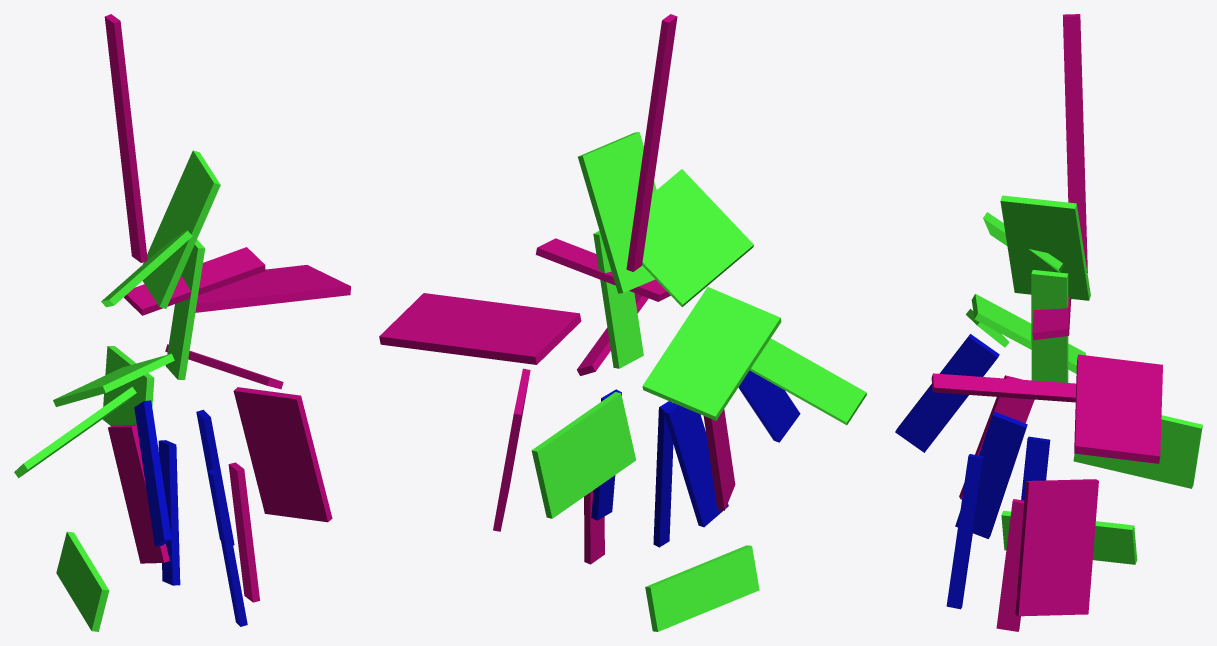
The model's file is Cube_rough.fbx.
3 renders of one model, left to right at view 1: azimuth 30°, elevation 25°; view 2: azimuth 150°, elevation 25°; view 3: azimuth 270°, elevation 25°, orthographic. The views are drawn at different scales.
Parts seen in each view (by area): view 1: RFoot_Cube_rough, LUpLeg_Cube_rough, LForeArm_Cube_rough, RUpLeg_Cube_rough, RLeg_Cube_rough, LArm_Cube_rough, LFoot_Cube_rough, Head_Cube_rough, LLeg_Cube_rough, LShoulder_Cube_rough, Head_End_Cube_rough, RShoulder_Cube_rough (+6 smaller); view 2: RArm_Cube_rough, LForeArm_Cube_rough, RHand_Cube_rough, RShoulder_Cube_rough, LUpLeg_Cube_rough, LFoot_Cube_rough, RForeArm_Cube_rough, RUpLeg_Cube_rough, Head_End_Cube_rough, LLeg_Cube_rough, Head_Cube_rough, ST12_Cube_rough (+6 smaller); view 3: RFoot_Cube_rough, LForeArm_Cube_rough, LUpLeg_Cube_rough, Head_Cube_rough, RUpLeg_Cube_rough, RShoulder_Cube_rough, Head_End_Cube_rough, LLeg_Cube_rough, LHand_Cube_rough, ST12_Cube_rough, LShoulder_Cube_rough, LFoot_Cube_rough (+5 smaller).
Part boxes in pixels (x1=…): RFoot_Cube_rough: x1=233, y1=387, x2=332, y2=522; LUpLeg_Cube_rough: x1=142, y1=150, x2=220, y2=308; LForeArm_Cube_rough: x1=195, y1=265, x2=350, y2=312; RUpLeg_Cube_rough: x1=104, y1=14, x2=147, y2=262; RLeg_Cube_rough: x1=108, y1=424, x2=169, y2=563; LArm_Cube_rough: x1=124, y1=247, x2=265, y2=315; LFoot_Cube_rough: x1=56, y1=531, x2=109, y2=631; Head_Cube_rough: x1=134, y1=400, x2=171, y2=546; LLeg_Cube_rough: x1=165, y1=239, x2=205, y2=379; LShoulder_Cube_rough: x1=228, y1=462, x2=259, y2=602; Head_End_Cube_rough: x1=158, y1=440, x2=180, y2=585; RShoulder_Cube_rough: x1=102, y1=346, x2=154, y2=426; RArm_Cube_rough: x1=642, y1=287, x2=781, y2=420; LForeArm_Cube_rough: x1=379, y1=293, x2=581, y2=364; RHand_Cube_rough: x1=629, y1=169, x2=753, y2=306; RShoulder_Cube_rough: x1=531, y1=392, x2=635, y2=518; LUpLeg_Cube_rough: x1=578, y1=132, x2=656, y2=293; LFoot_Cube_rough: x1=645, y1=545, x2=759, y2=631; RForeArm_Cube_rough: x1=749, y1=338, x2=866, y2=425; RUpLeg_Cube_rough: x1=626, y1=14, x2=677, y2=271; Head_End_Cube_rough: x1=663, y1=403, x2=728, y2=527; LLeg_Cube_rough: x1=593, y1=230, x2=643, y2=368; Head_Cube_rough: x1=738, y1=370, x2=800, y2=442; ST12_Cube_rough: x1=653, y1=401, x2=673, y2=547; RFoot_Cube_rough: x1=1015, y1=479, x2=1098, y2=616; LForeArm_Cube_rough: x1=1074, y1=354, x2=1162, y2=463; LUpLeg_Cube_rough: x1=1000, y1=195, x2=1090, y2=300; Head_Cube_rough: x1=895, y1=334, x2=999, y2=452; RUpLeg_Cube_rough: x1=1063, y1=14, x2=1087, y2=272; RShoulder_Cube_rough: x1=1073, y1=415, x2=1202, y2=488; Head_End_Cube_rough: x1=955, y1=411, x2=1027, y2=538; LLeg_Cube_rough: x1=1031, y1=270, x2=1068, y2=382; LHand_Cube_rough: x1=931, y1=373, x2=1076, y2=402; ST12_Cube_rough: x1=946, y1=454, x2=983, y2=609; LShoulder_Cube_rough: x1=996, y1=499, x2=1024, y2=631; LFoot_Cube_rough: x1=1001, y1=510, x2=1137, y2=564.
Bounding box in the file's own units: 165 × 241 × 119.
